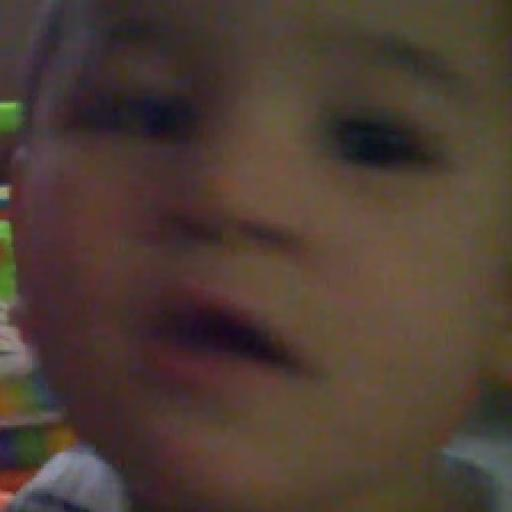Autism: (40, 7, 512, 489)
